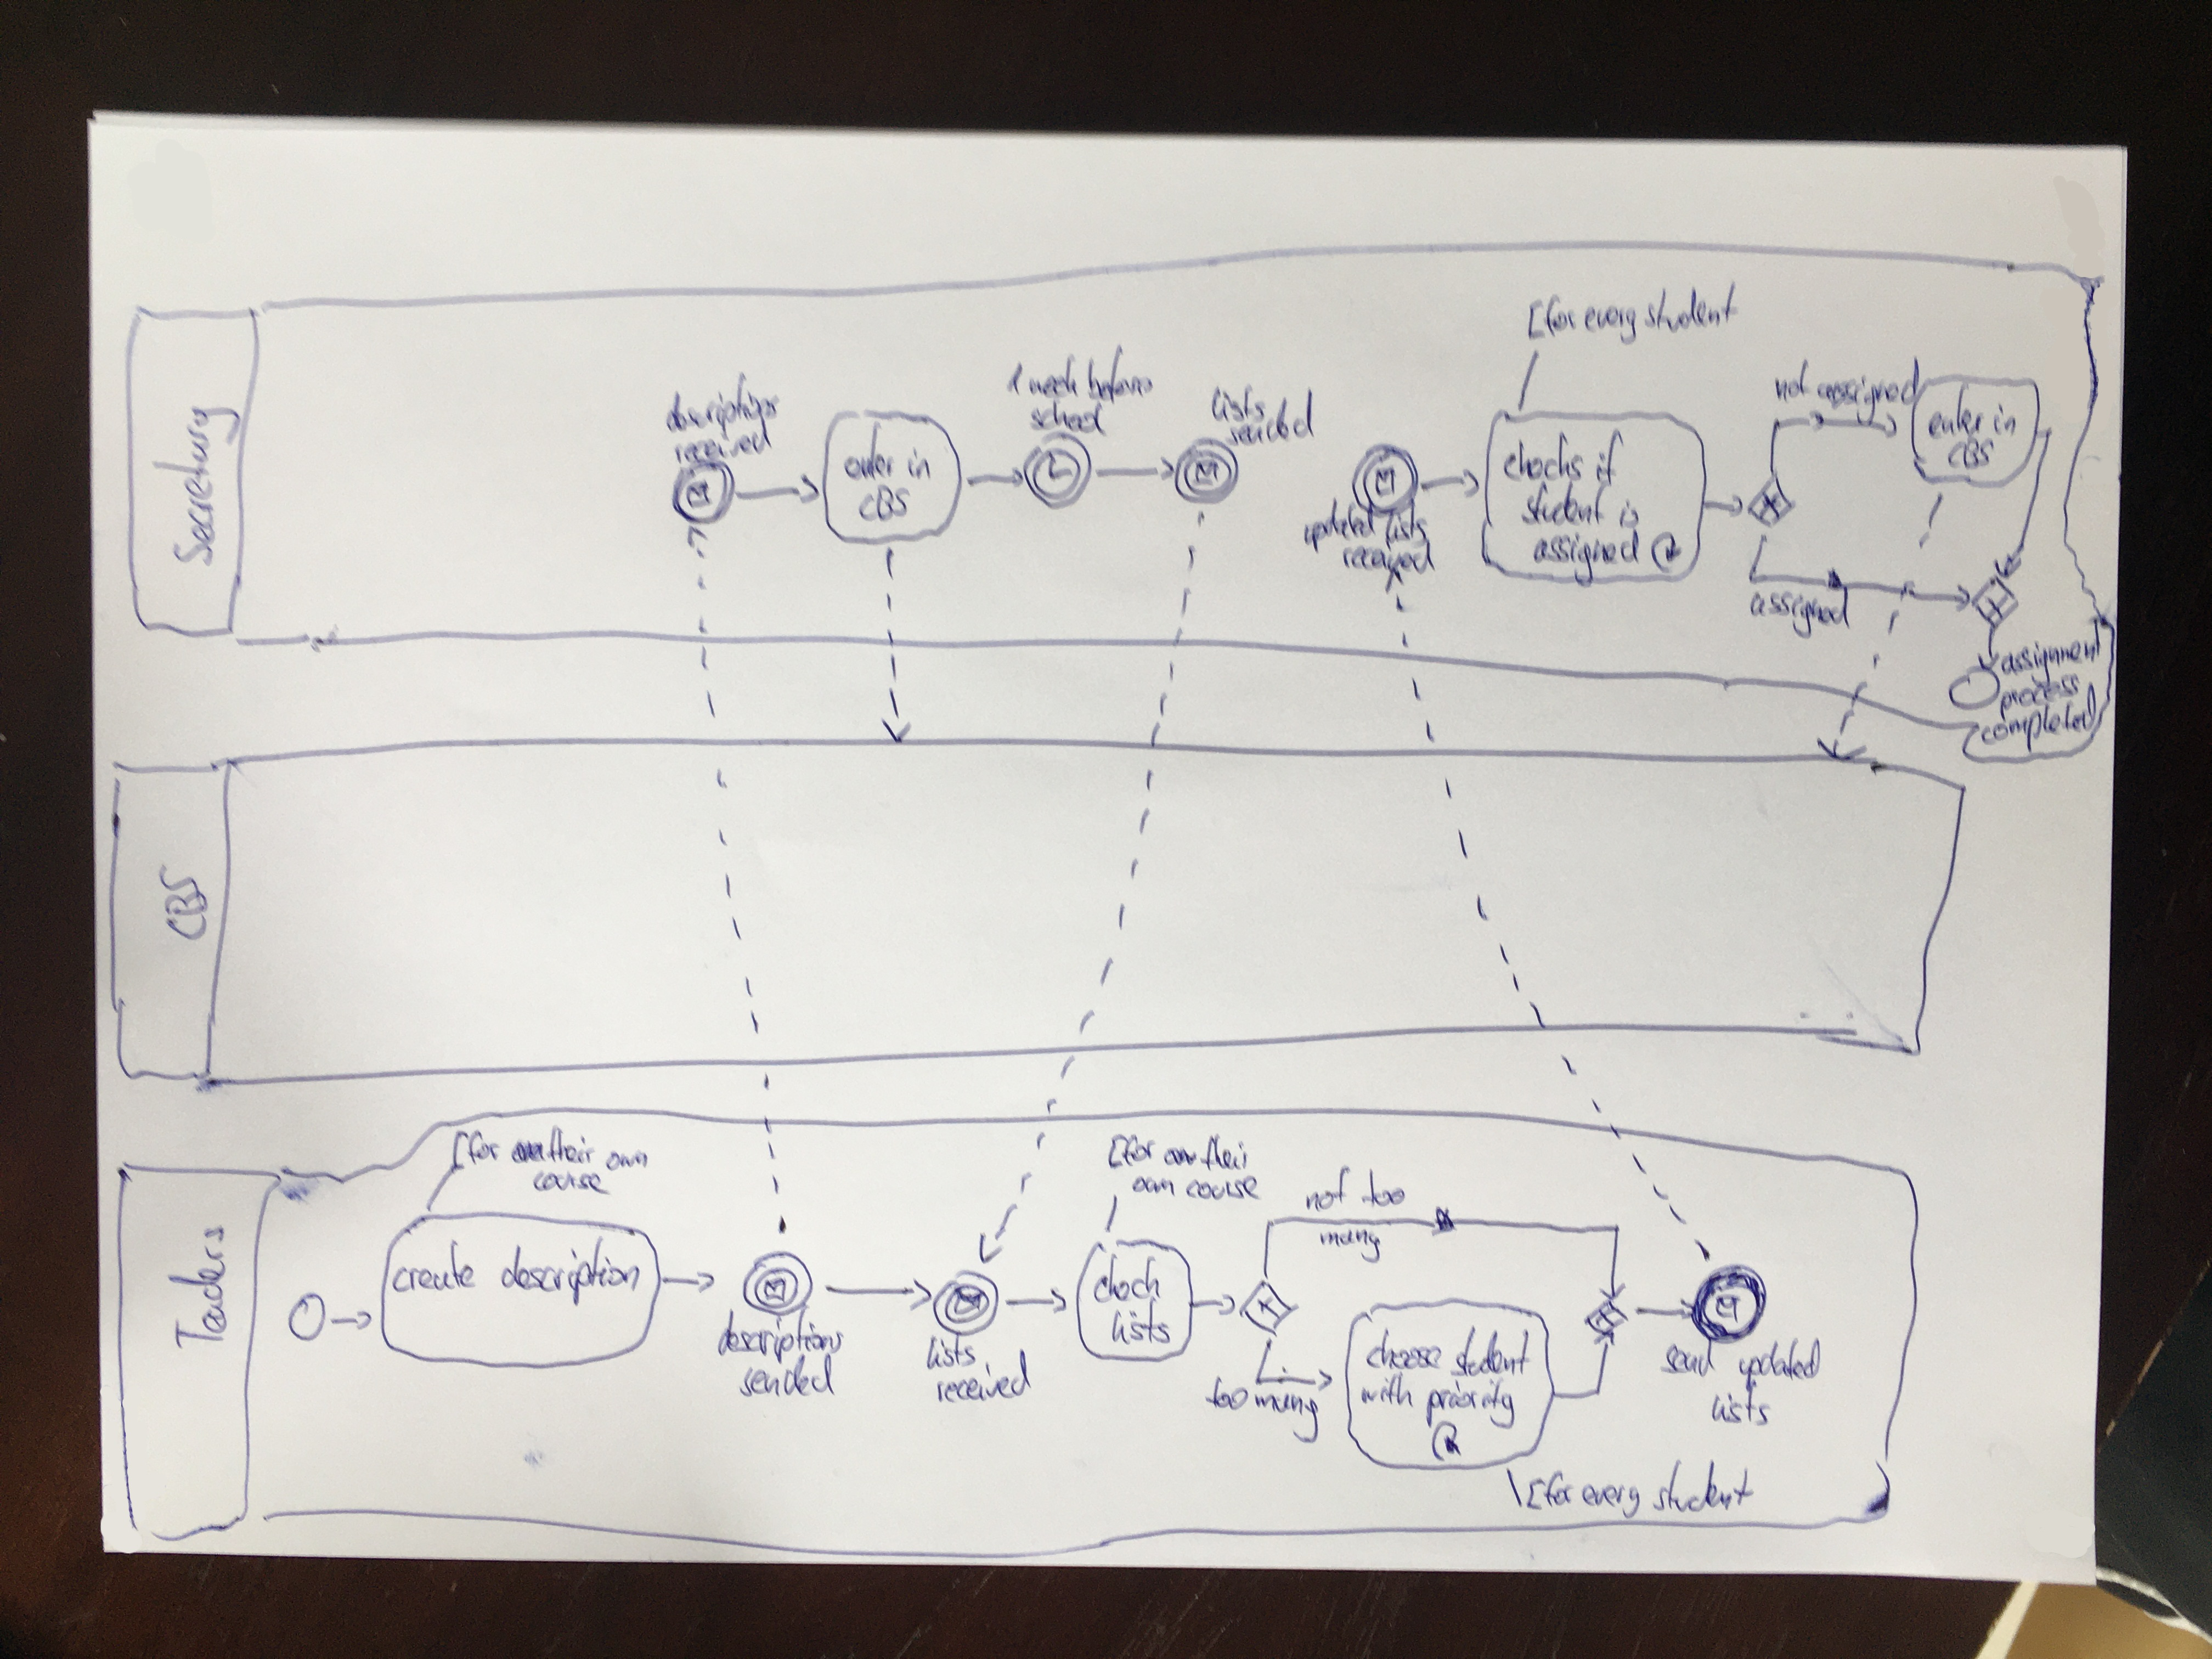1: (1005, 360, 1025, 398)
CBS: (157, 864, 210, 941), (858, 484, 911, 522), (1946, 433, 1994, 471)
Secretary: (153, 404, 239, 568)
Teachers: (166, 1224, 228, 1349)
[for: (1105, 1134, 1156, 1170)
assigned: (1815, 356, 1922, 421), (1749, 578, 1855, 634), (1531, 530, 1642, 583)
assignment: (1994, 643, 2102, 695)
before: (1086, 344, 1154, 405)
check: (1091, 1253, 1164, 1305)
choose: (1365, 1330, 1444, 1370)
clocks: (1502, 431, 1586, 481)
completed: (1977, 703, 2100, 756)
course: (1184, 1175, 1261, 1200), (531, 1169, 608, 1193)
create: (392, 1239, 478, 1294)
description: (500, 1235, 644, 1307)
descriptions: (660, 379, 780, 446), (716, 1307, 845, 1367)
enter: (1925, 382, 1984, 439)
every: (1582, 304, 1638, 346), (1580, 1483, 1642, 1520)
for: (1544, 295, 1578, 337), (466, 1130, 502, 1166), (1542, 1471, 1575, 1508)
if: (1593, 429, 1625, 484)
in: (905, 447, 933, 480), (1991, 403, 2019, 436)
is: (1618, 498, 1641, 531)
lists: (1110, 1297, 1172, 1345), (1210, 383, 1267, 423), (1709, 1391, 1771, 1426), (924, 1334, 979, 1370), (1384, 504, 1429, 546)
many: (1253, 1391, 1320, 1445), (1318, 1228, 1383, 1264)
not: (1303, 1166, 1351, 1212), (1774, 358, 1811, 402)
order: (843, 430, 897, 482)
own: (604, 1152, 650, 1172), (1131, 1175, 1177, 1194)
priority: (1424, 1377, 1519, 1428)
process: (1994, 685, 2083, 719)
received: (931, 1363, 1029, 1409), (669, 432, 771, 469), (1341, 539, 1439, 570)
school: (1028, 399, 1106, 433)
send: (1658, 1341, 1717, 1377)
sended: (740, 1353, 836, 1398), (1222, 409, 1318, 450)
student: (1652, 1458, 1755, 1515), (1641, 285, 1737, 334), (1520, 481, 1607, 529), (1452, 1326, 1530, 1379)
their: (546, 1126, 596, 1165), (1200, 1136, 1250, 1172)
too: (1361, 1169, 1407, 1208), (1204, 1375, 1250, 1411)
updated: (1735, 1335, 1822, 1390), (1299, 506, 1374, 555)
week: (1028, 354, 1081, 397)
with: (1359, 1373, 1417, 1407)
